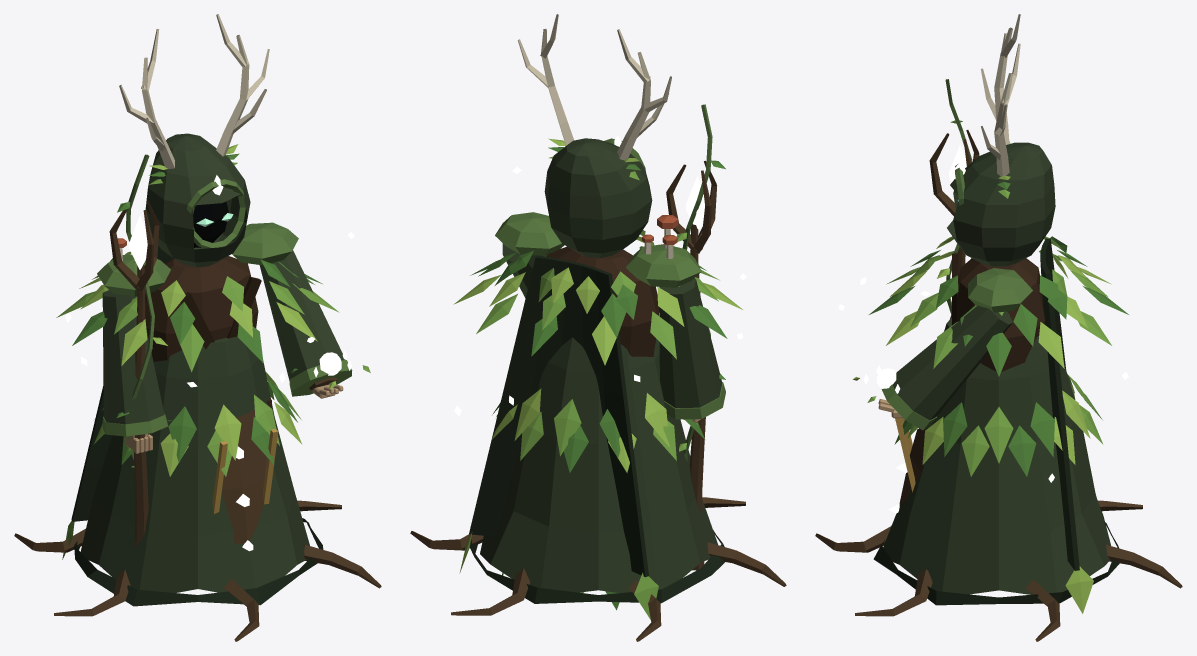
Rendered from Druid.fbx.
The picture shows the model from 3 angles, left to right: view 1: azimuth 30°, elevation 25°; view 2: azimuth 150°, elevation 25°; view 3: azimuth 270°, elevation 25°; orthographic projection. The views are drawn at different scales.
Parts seen in each view (by area): view 1: Root__Robe, Head__Robe, Root__Bark, Torso__Leather, ArmR__Robe, ArmL__Robe, Head__Bone, Torso__Moss, Weapon__Bark, Root__RobeDark, Torso__LeafA, Torso__LeafC (+14 smaller); view 2: Root__Robe, Cape__RobeDark, Head__Robe, ArmR__Robe, Torso__Moss, Root__Bark, Torso__Leather, Head__Bone, Weapon__Bark, Root__RobeDark, Torso__LeafC, Torso__LeafA (+10 smaller); view 3: Root__Robe, Head__Robe, ArmL__Robe, Root__Bark, Cape__RobeDark, Torso__Leather, Torso__LeafB, Root__LeafB, Head__Bone, Root__LeafA, Torso__Moss, Root__RobeDark (+7 smaller).
Boxes of the visible parts, x1,y1,x2,y2 form: Root__Robe: (80, 336, 309, 592); Head__Robe: (145, 133, 250, 266); Root__Bark: (14, 410, 381, 641); Torso__Leather: (145, 256, 271, 408); ArmR__Robe: (102, 290, 164, 424); ArmL__Robe: (259, 250, 345, 381); Head__Bone: (119, 14, 269, 169); Torso__Moss: (97, 222, 298, 296); Weapon__Bark: (109, 200, 159, 546); Root__RobeDark: (74, 518, 323, 606); Torso__LeafA: (56, 251, 339, 372); Torso__LeafC: (79, 278, 317, 365); Root__Robe: (480, 337, 717, 592); Cape__RobeDark: (469, 255, 648, 577); Head__Robe: (544, 138, 652, 257); ArmR__Robe: (659, 278, 722, 407); Torso__Moss: (495, 212, 701, 287); Root__Bark: (410, 497, 786, 641); Torso__Leather: (547, 246, 659, 356); Head__Bone: (517, 14, 671, 160); Weapon__Bark: (666, 160, 716, 570); Root__RobeDark: (469, 530, 724, 603); Torso__LeafC: (453, 236, 742, 365); Torso__LeafA: (476, 230, 719, 359); Root__Robe: (883, 318, 1110, 594); Head__Robe: (947, 142, 1055, 266); ArmL__Robe: (892, 305, 1012, 420); Root__Bark: (815, 422, 1182, 641); Cape__RobeDark: (1040, 238, 1079, 570); Torso__Leather: (957, 258, 1044, 371); Torso__LeafB: (869, 250, 1128, 376); Root__LeafB: (894, 375, 1102, 476); Head__Bone: (980, 14, 1020, 176); Root__LeafA: (907, 374, 1103, 476); Torso__Moss: (968, 268, 1032, 312); Root__RobeDark: (873, 522, 1119, 605).
Bounding box in the file's own units: 2.21 × 3.48 × 2.14.
